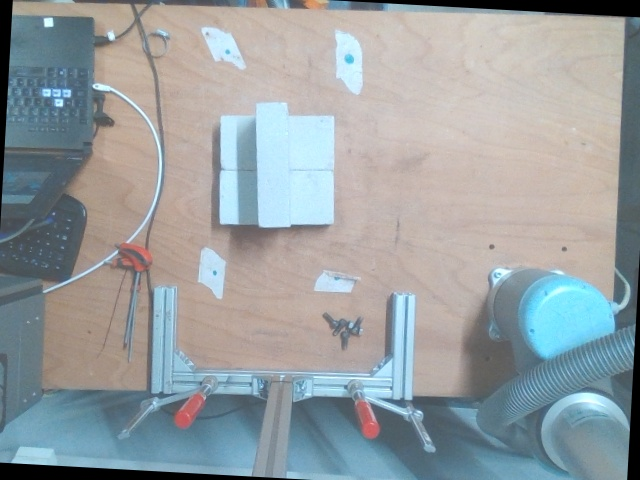brick-side: (254, 103, 290, 226)
